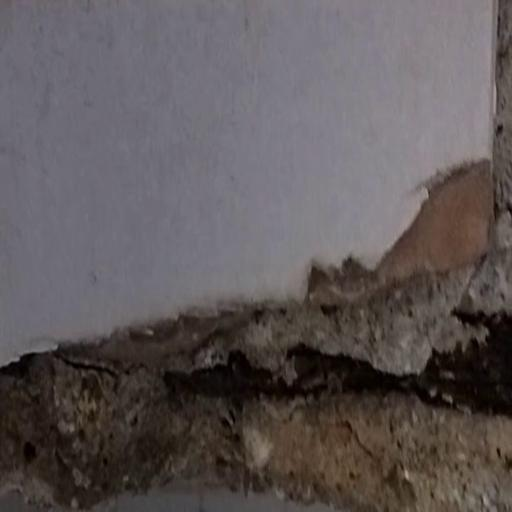spalling: (0, 125, 510, 512)
